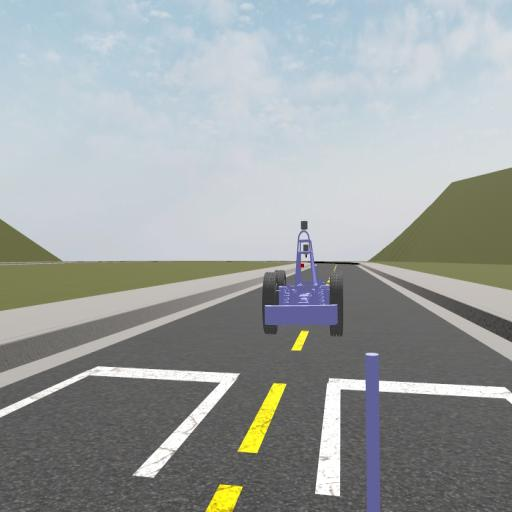ERP-42: (263, 220, 343, 336)
